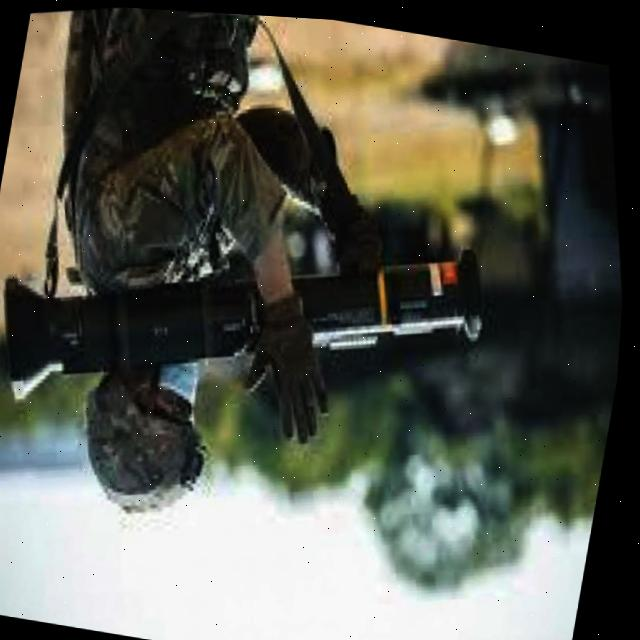rocket: (0, 167, 517, 481)
